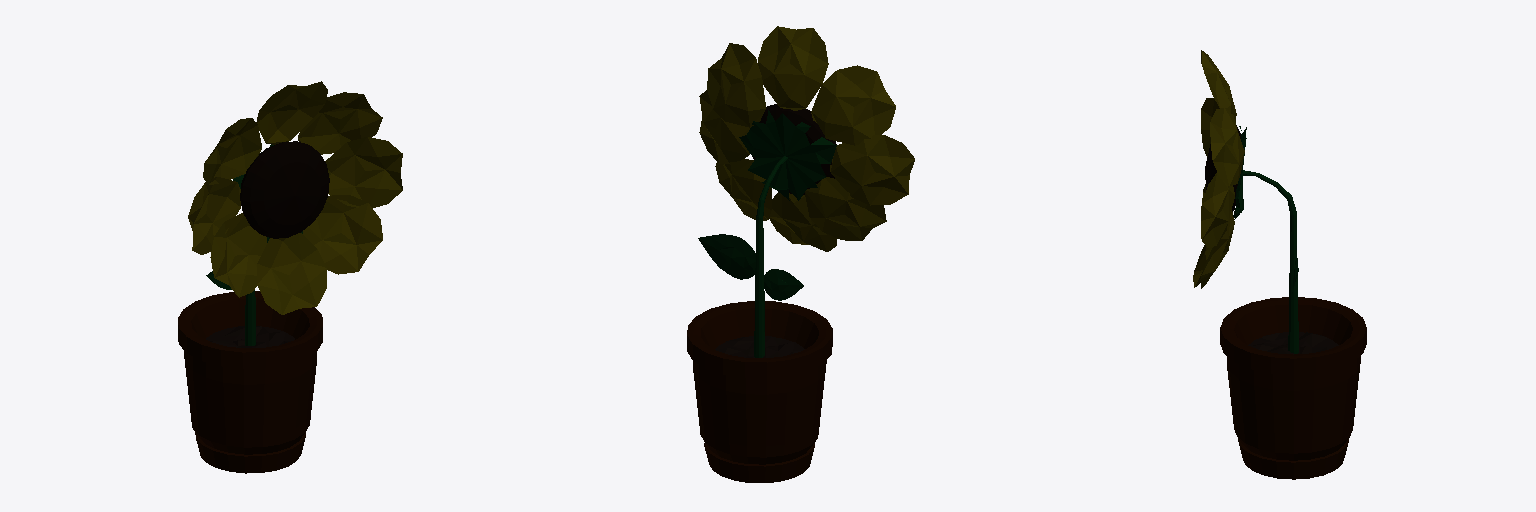
File: PottedPlant.obj
3 renders of one model, left to right at view 1: azimuth 30°, elevation 25°; view 2: azimuth 150°, elevation 25°; view 3: azimuth 270°, elevation 25°, orthographic.
Visible parts, largest first — view 1: pPipe1, FlowerFace group, FlowerPetals, FlowerPetals5, FlowerPetals2, FlowerPetals4, FlowerPetals7, FlowerPetals1, FlowerPetals3, FlowerPetals6, Dirt, FlowerStem; view 2: pPipe1, FlowerPetals6, pCylinder2, FlowerPetals1, FlowerPetals3, FlowerPetals4, FlowerPetals7, FlowerPetals, FlowerPetals2, FlowerPetals5, pDisc1, FlowerStem (+3 smaller); view 3: pPipe1, FlowerPetals4, FlowerPetals2, FlowerStem, Dirt, FlowerPetals1, FlowerPetals5, FlowerPetals3.
Boxes of the visible parts, box(x1,y1,x2,y2) form: pPipe1: box(178, 291, 322, 473); FlowerFace group: box(240, 141, 329, 238); FlowerPetals: box(257, 233, 326, 314); FlowerPetals5: box(303, 195, 382, 274); FlowerPetals2: box(325, 137, 402, 207); FlowerPetals4: box(298, 92, 382, 154); FlowerPetals7: box(210, 213, 266, 297); FlowerPetals1: box(256, 81, 327, 144); FlowerPetals3: box(188, 177, 240, 254); FlowerPetals6: box(203, 118, 261, 184); Dirt: box(206, 326, 294, 347); FlowerStem: box(245, 290, 255, 345); pPipe1: box(687, 301, 832, 482); FlowerPetals6: box(811, 65, 895, 145); pCylinder2: box(739, 110, 836, 200); FlowerPetals1: box(758, 26, 828, 110); FlowerPetals3: box(830, 135, 914, 205); FlowerPetals4: box(707, 43, 765, 127); FlowerPetals7: box(805, 177, 886, 240); FlowerPetals: box(769, 192, 836, 251); FlowerPetals2: box(699, 90, 749, 164); FlowerPetals5: box(715, 158, 771, 220); pDisc1: box(698, 234, 755, 279); FlowerStem: box(754, 156, 787, 357); pPipe1: box(1220, 297, 1366, 479); FlowerPetals4: box(1210, 107, 1244, 185); FlowerPetals2: box(1201, 172, 1234, 247); FlowerStem: box(1242, 170, 1298, 353); Dirt: box(1248, 332, 1338, 354); FlowerPetals1: box(1202, 52, 1236, 121); FlowerPetals5: box(1200, 210, 1234, 288); FlowerPetals3: box(1201, 98, 1219, 156).
Bounding box in the file's own units: 15.72 × 28.04 × 10.97.